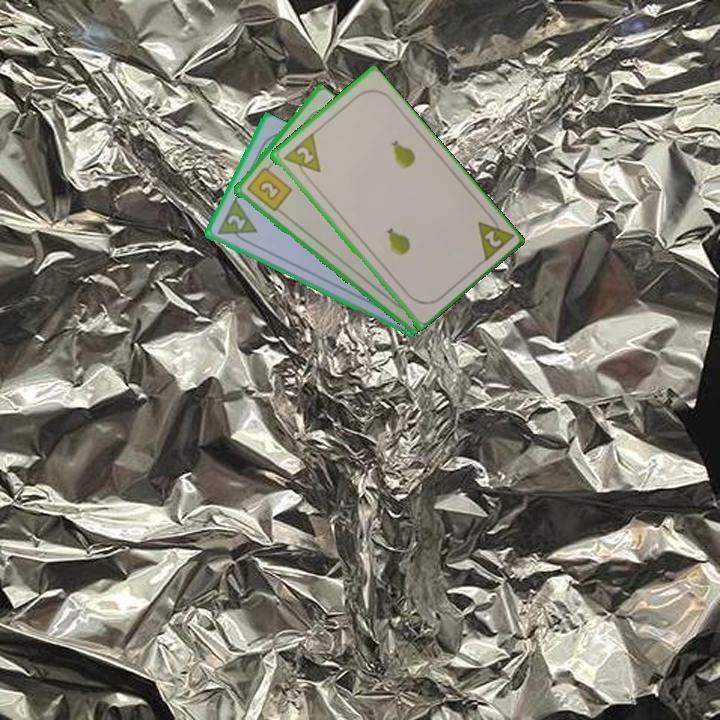2b: (243, 160, 294, 214)
2p: (473, 209, 515, 265), (279, 130, 323, 182), (223, 211, 248, 233)
